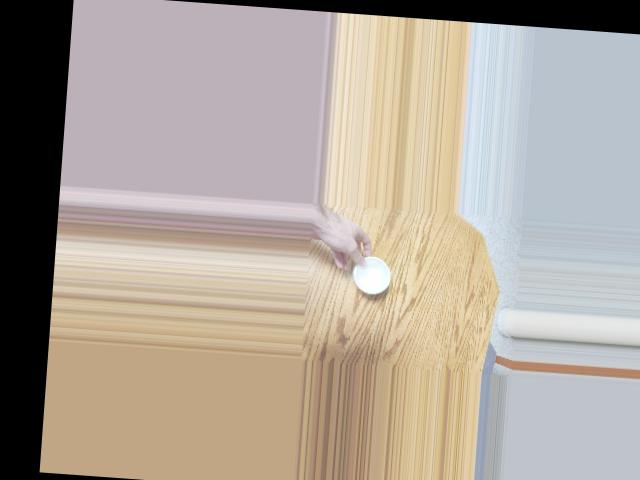cotage: (348, 251, 391, 296)
